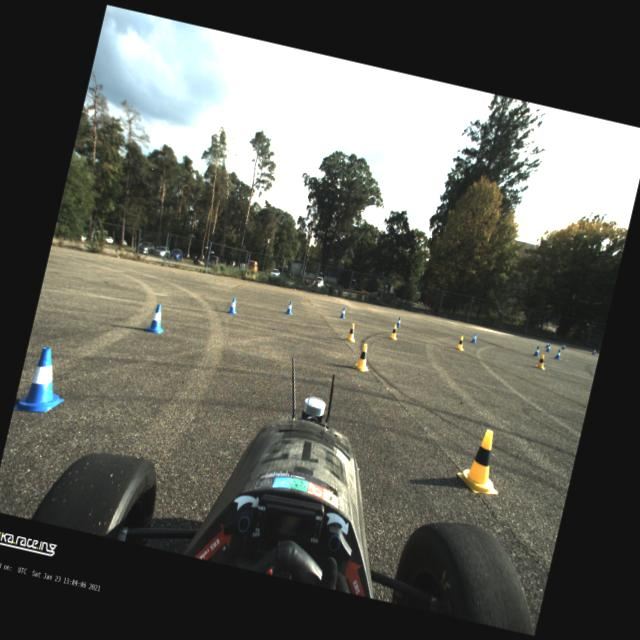blue_cone: (13, 342, 76, 421), (146, 302, 170, 334), (226, 295, 241, 315), (284, 300, 296, 316), (532, 344, 542, 358), (338, 306, 348, 319), (469, 332, 478, 344), (553, 348, 562, 360), (544, 342, 552, 352), (396, 316, 402, 328), (560, 342, 566, 350), (544, 340, 550, 348), (592, 348, 596, 356)
yellow_cone: (453, 423, 512, 499), (352, 342, 374, 373), (343, 321, 358, 342), (534, 353, 548, 370), (455, 334, 467, 352), (388, 323, 400, 341)
